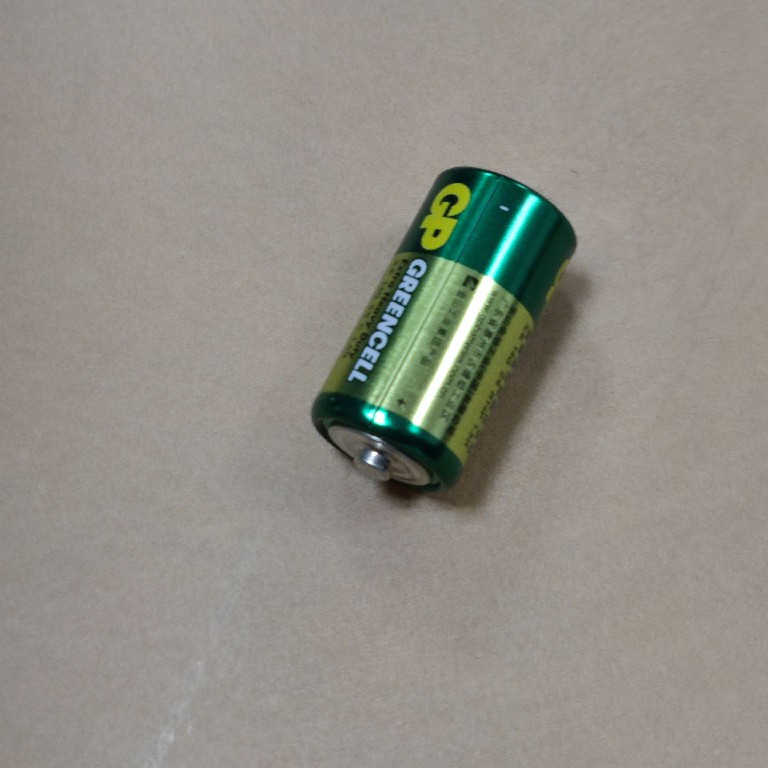charge: (304, 162, 585, 499)
